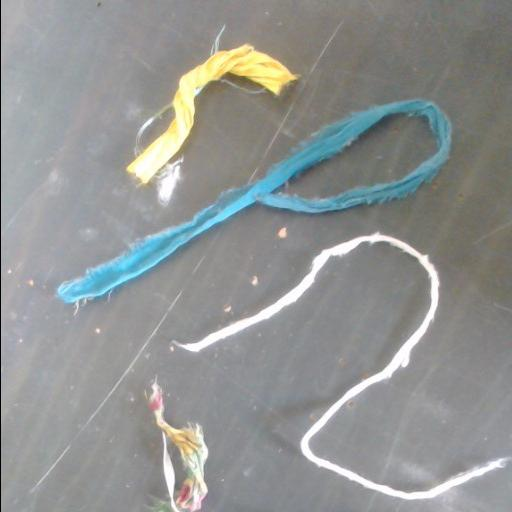cloth: (58, 100, 449, 303), (127, 44, 297, 184)
conveyor belt: (1, 0, 512, 511)
thread: (287, 233, 505, 499), (149, 381, 207, 511), (176, 303, 278, 351)
